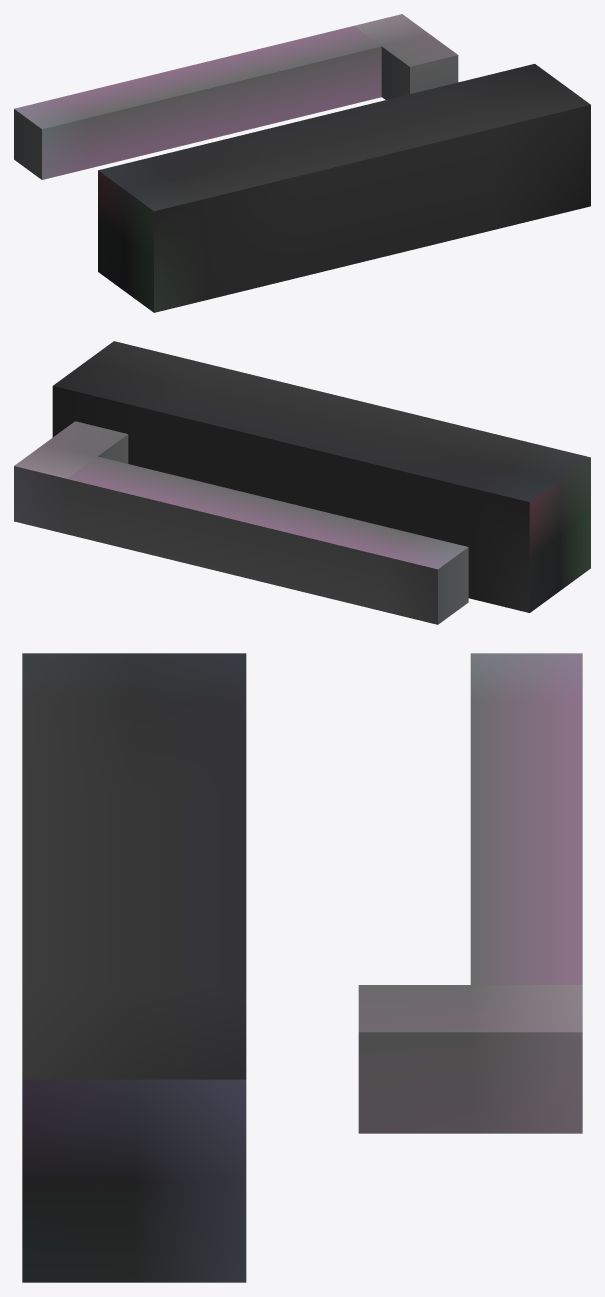
The model's file is Scooter_Big_B_00.fbx.
3 renders of one model, top to bottom at view 1: azimuth 30°, elevation 25°; view 2: azimuth 150°, elevation 25°; view 3: azimuth 270°, elevation 25°, orthographic. The views are drawn at different scales.
Parts seen in each view (by area): view 1: Scooter_Big_B_00; view 2: Scooter_Big_B_00; view 3: Scooter_Big_B_00.
Part boxes in pixels (x1=…): Scooter_Big_B_00: x1=14, y1=14, x2=590, y2=312; Scooter_Big_B_00: x1=14, y1=341, x2=590, y2=624; Scooter_Big_B_00: x1=22, y1=653, x2=582, y2=1282.
Size of the model in its own units: 45 by 10 by 25.
